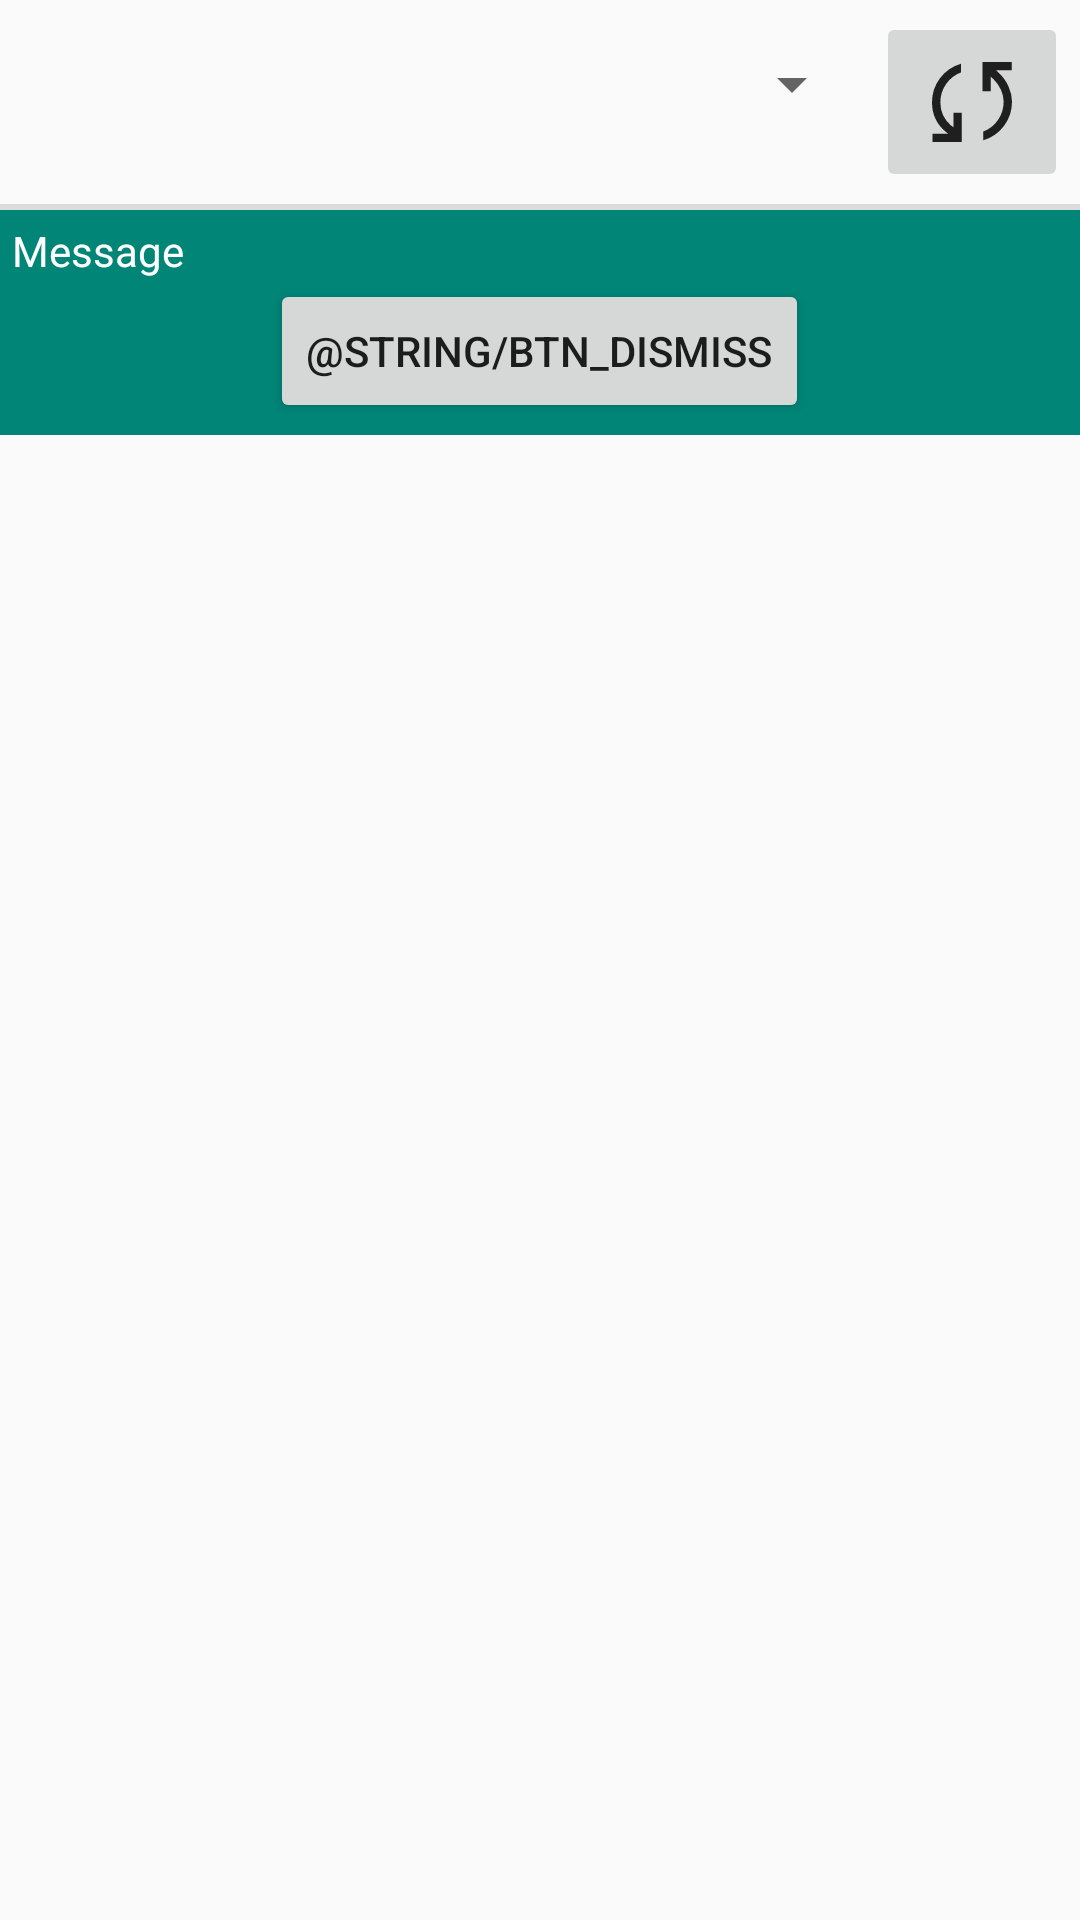

Named icons in this screenshot (1080px×1920px) and their bounding boxes, rect(x1, y1, x2, y2):
refresh: rect(888, 30, 1056, 174)
